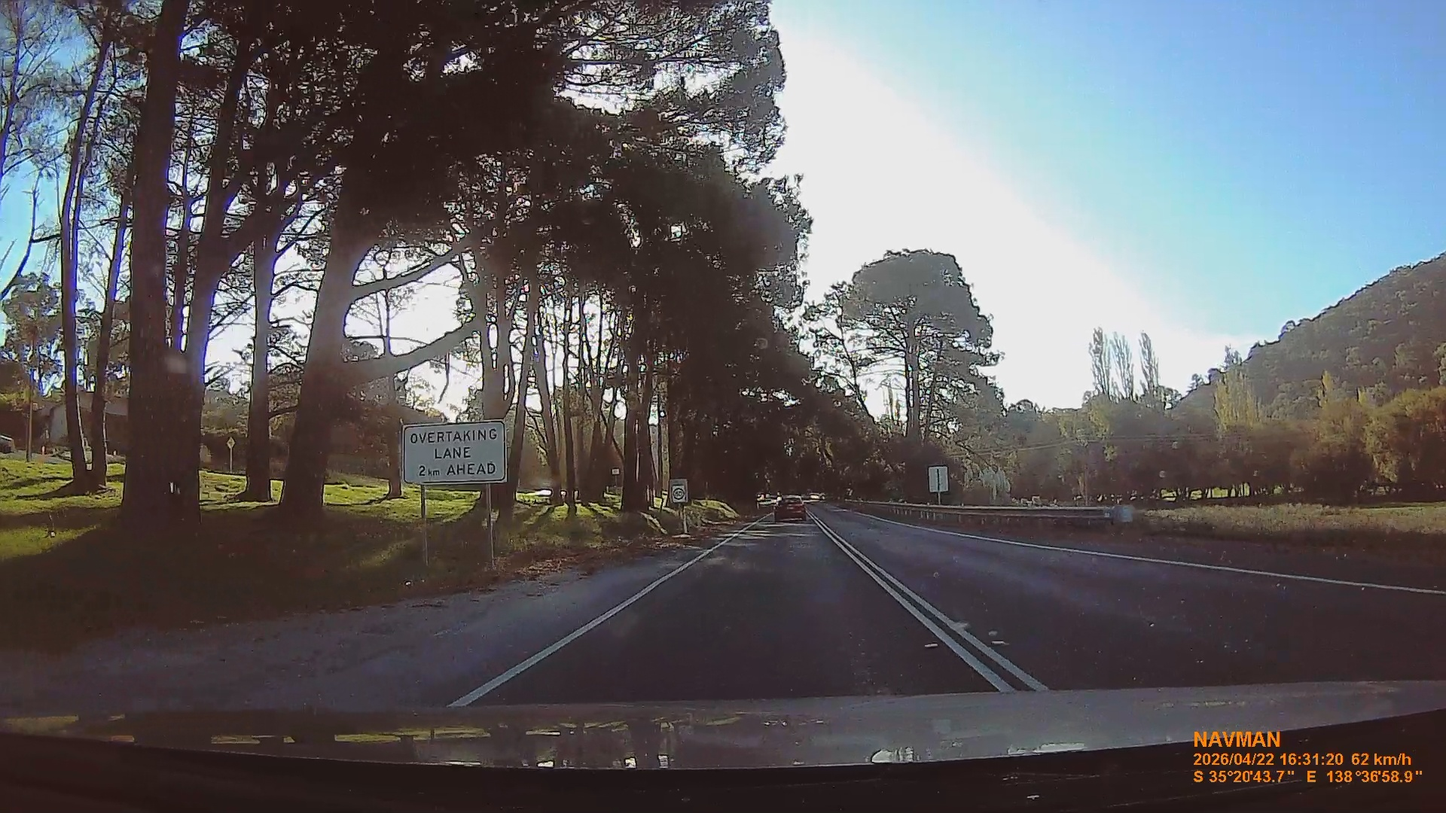road barriers: (828, 502, 1133, 527)
